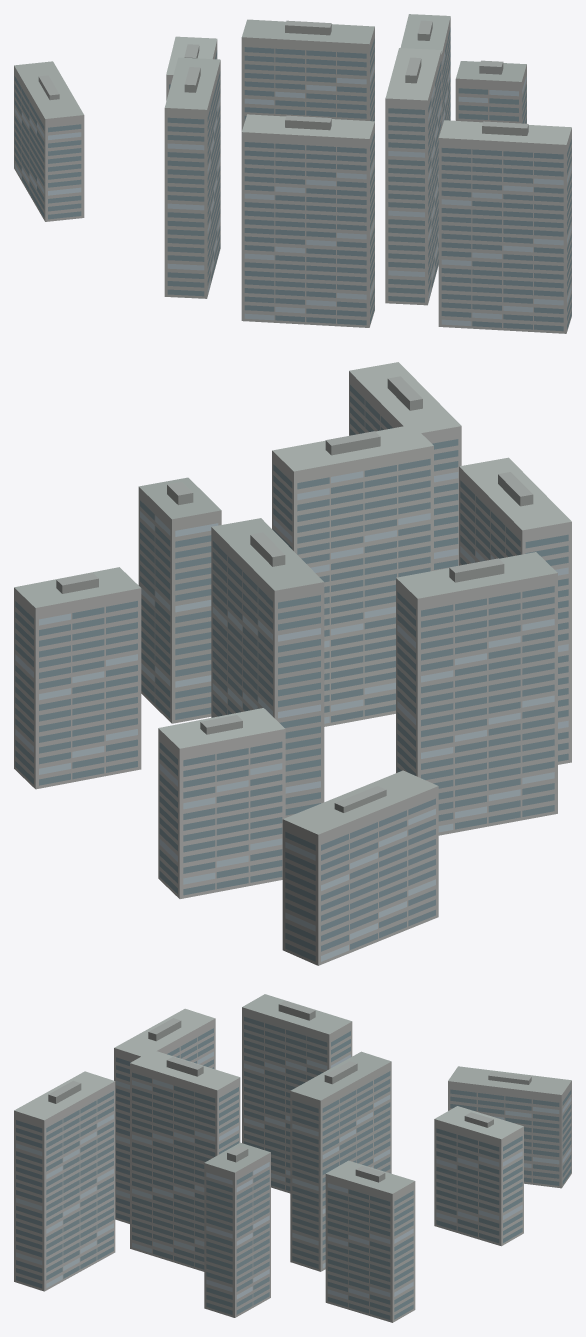
File: apt-a13980415.glb
3 renders of one model, top to bottom at view 1: azimuth 30°, elevation 25°; view 2: azimuth 150°, elevation 25°; view 3: azimuth 270°, elevation 25°, orthographic. The views are drawn at different scales.
Visible parts, largest first — view 1: apt-a13980415; view 2: apt-a13980415; view 3: apt-a13980415.
Part boxes in pixels (bbox=[...]): apt-a13980415: bbox=[14, 14, 571, 333]; apt-a13980415: bbox=[14, 362, 571, 965]; apt-a13980415: bbox=[14, 994, 571, 1322].
Size of the model in its own units: 122 by 67 by 176.
